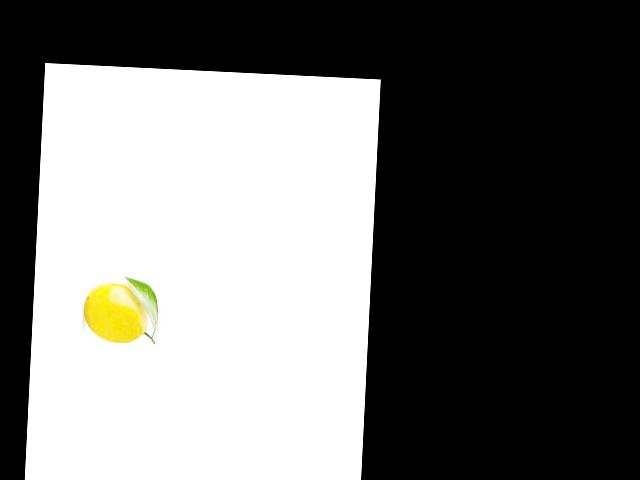lemon: (77, 278, 155, 348)
